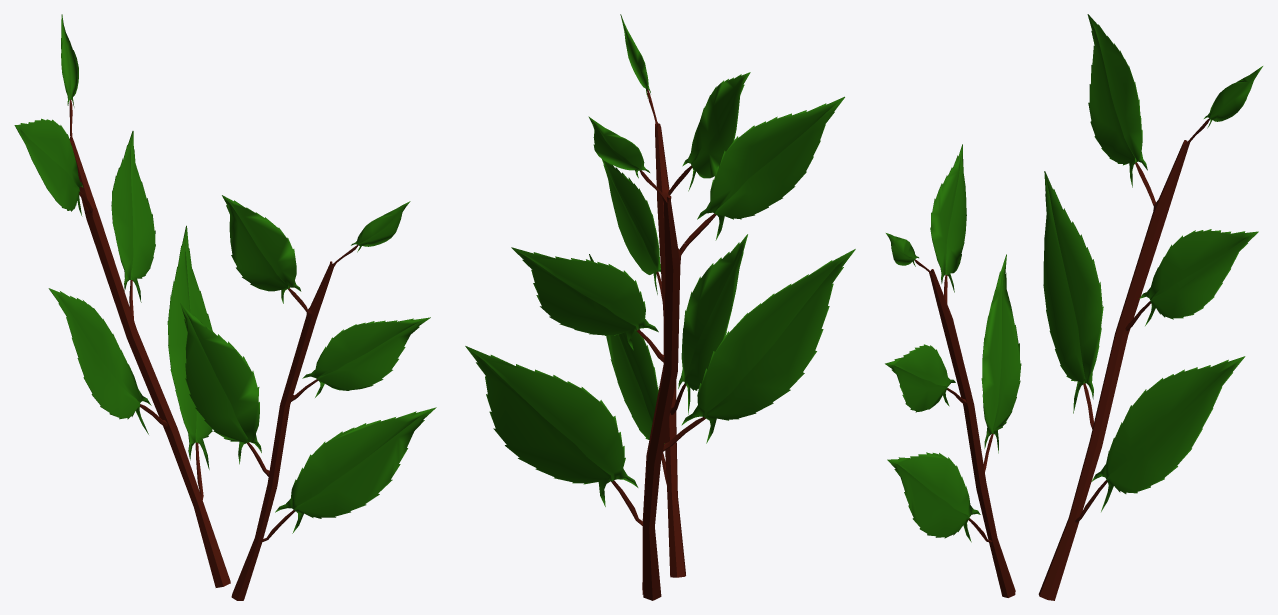
Rendered from SM_JutePlant_001.fbx.
3 views of the same model, side by side, from view 1: azimuth 30°, elevation 25°; view 2: azimuth 150°, elevation 25°; view 3: azimuth 270°, elevation 25° (orthographic). The views are drawn at different scales.
Parts seen in each view (by area): view 1: JuteLeaf.001; view 2: JuteLeaf.001; view 3: JuteLeaf.001.
Boxes of the visible parts, x1=… form: JuteLeaf.001: x1=14, y1=14, x2=436, y2=600; JuteLeaf.001: x1=465, y1=14, x2=855, y2=600; JuteLeaf.001: x1=885, y1=14, x2=1262, y2=600.
Size of the model in its own units: 58.44 by 88.03 by 59.42.
